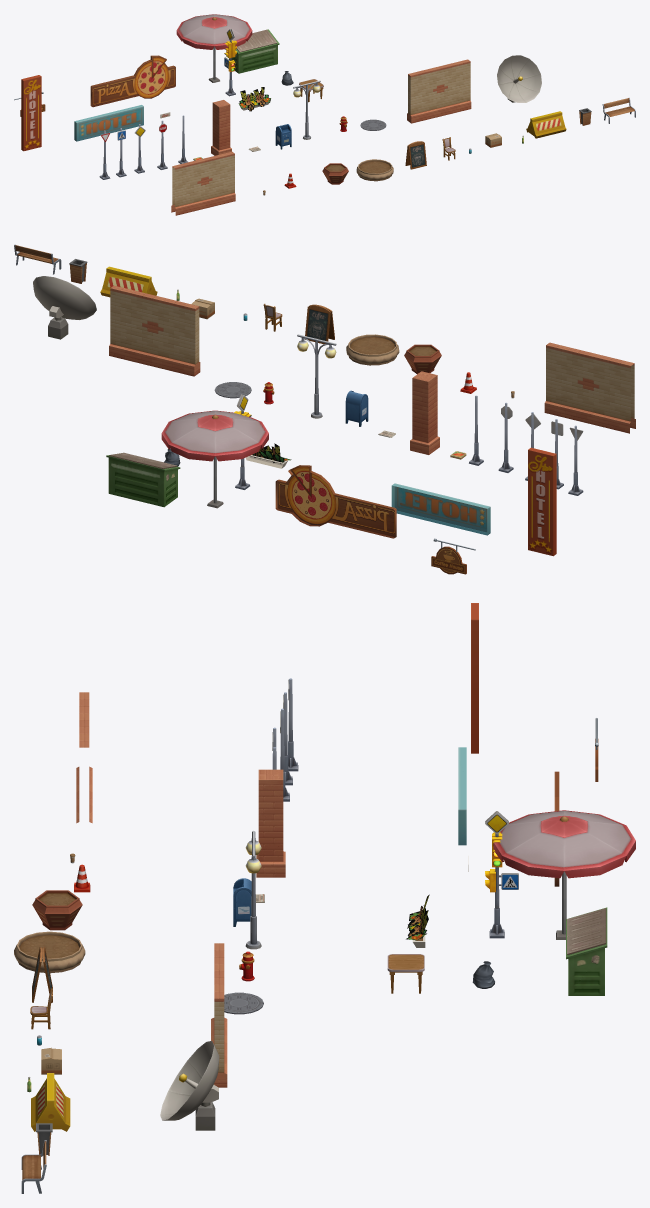
The picture shows the model from 3 angles, top to bottom: view 1: azimuth 30°, elevation 25°; view 2: azimuth 150°, elevation 25°; view 3: azimuth 270°, elevation 25°; orthographic projection. The views are drawn at different scales.
Parts seen in each view (by area): view 1: Fence_2, Fence_1, Sign_pizza, Umbrella, Antenna, Sign_hotel_1, Sign_hotel_2, Pillar_1, Trash_can_large, Block, Clumb_empty_1, Chalk_board (+7 smaller); view 2: Fence_2, Fence_1, Sign_pizza, Umbrella, Sign_hotel_2, Sign_hotel_1, Trash_can_large, Antenna, Pillar_1, Clumb_empty_1, Block, Chalk_board (+7 smaller); view 3: Umbrella, Antenna, Pillar_1, Clumb_empty_1, Trash_can_large, Fence_2, Block, Clumb_empty_2, Sign_hotel_1, Fence_1, Lighter, Traffic_Light_1 (+3 smaller).
Boxes of the visible parts, box(x1,y1,x2,y2) form: Fence_2: box(407, 59, 471, 123); Fence_1: box(171, 151, 235, 215); Sign_pizza: box(90, 55, 175, 107); Umbrella: box(176, 14, 252, 82); Antenna: box(497, 55, 541, 102); Sign_hotel_1: box(21, 75, 41, 151); Sign_hotel_2: box(74, 105, 143, 141); Pillar_1: box(211, 100, 231, 155); Trash_can_large: box(229, 29, 279, 73); Block: box(526, 111, 566, 138); Clumb_empty_1: box(356, 159, 393, 181); Chalk_board: box(405, 141, 426, 169); Fence_2: box(109, 285, 200, 376); Fence_1: box(544, 342, 635, 433); Sign_pizza: box(275, 465, 396, 538); Umbrella: box(161, 410, 268, 508); Sign_hotel_2: box(391, 483, 490, 535); Sign_hotel_1: box(528, 447, 556, 556); Trash_can_large: box(106, 455, 180, 507); Antenna: box(33, 276, 96, 339); Pillar_1: box(410, 371, 439, 454); Clumb_empty_1: box(346, 334, 399, 365); Block: box(100, 266, 157, 297); Chalk_board: box(305, 304, 334, 344); Umbrella: box(493, 810, 635, 939); Antenna: box(160, 1041, 219, 1130); Pillar_1: box(256, 769, 285, 877); Clumb_empty_1: box(14, 931, 85, 973); Trash_can_large: box(566, 907, 607, 995); Fence_2: box(211, 943, 227, 1087); Block: box(31, 1073, 70, 1131); Clumb_empty_2: box(32, 890, 82, 930); Sign_hotel_1: box(471, 603, 478, 753); Fence_1: box(76, 692, 92, 823); Lighter: box(245, 830, 261, 949); Traffic_Light_1: box(485, 832, 504, 938).
Bounding box in the file's own units: 32.96 × 4.5 × 18.96.
Materials: 22 (22 with a texture image).
